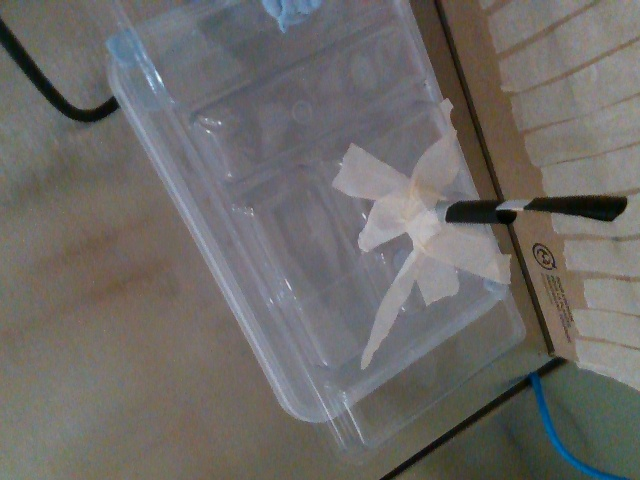test_strip: (493, 194, 628, 222)
